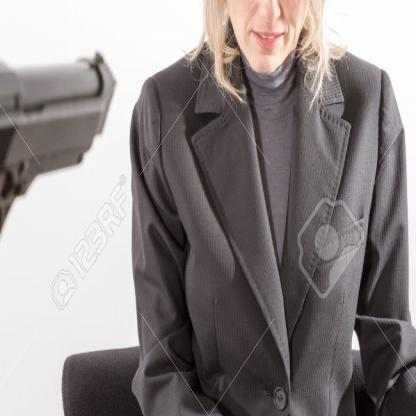gun: (0, 51, 122, 415)
